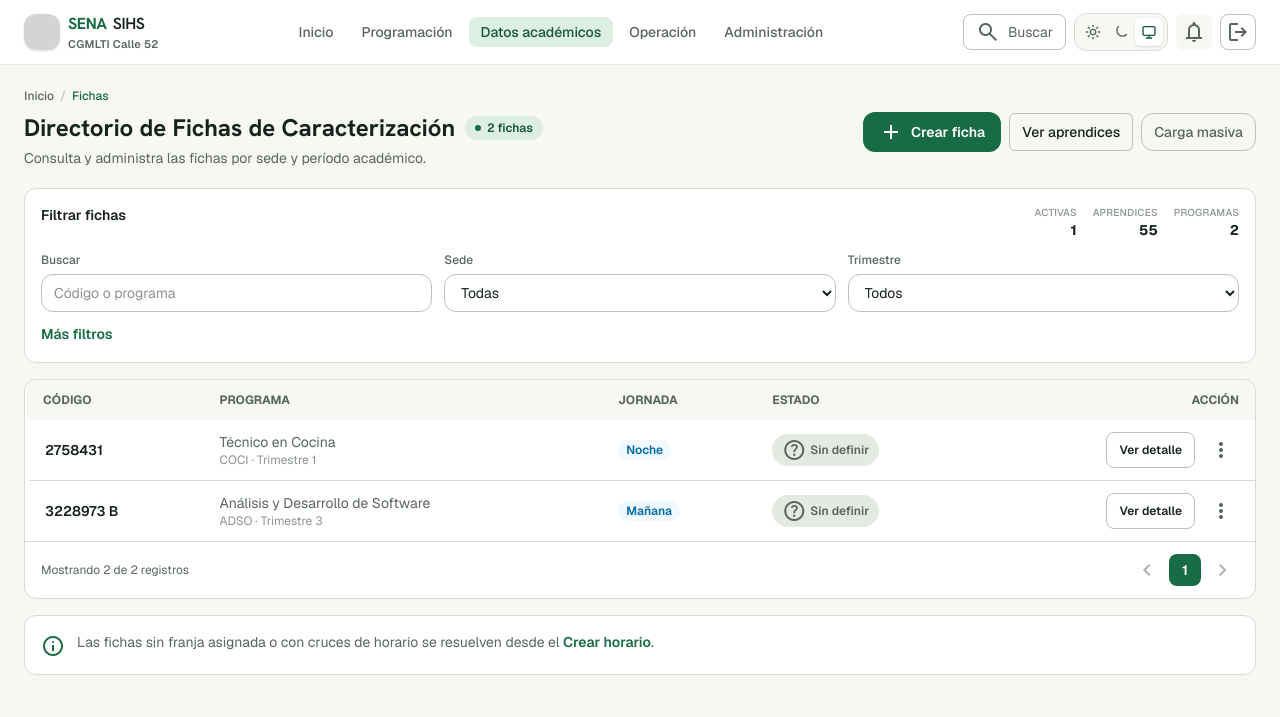
Scenario: Fichas › un bloque en borrador se distingue del publicado en el grid de consulta
Step 1. Click the text "3228973 B" → {"x": 115, "y": 511}, box x1=27 y1=480 x2=204 y2=541
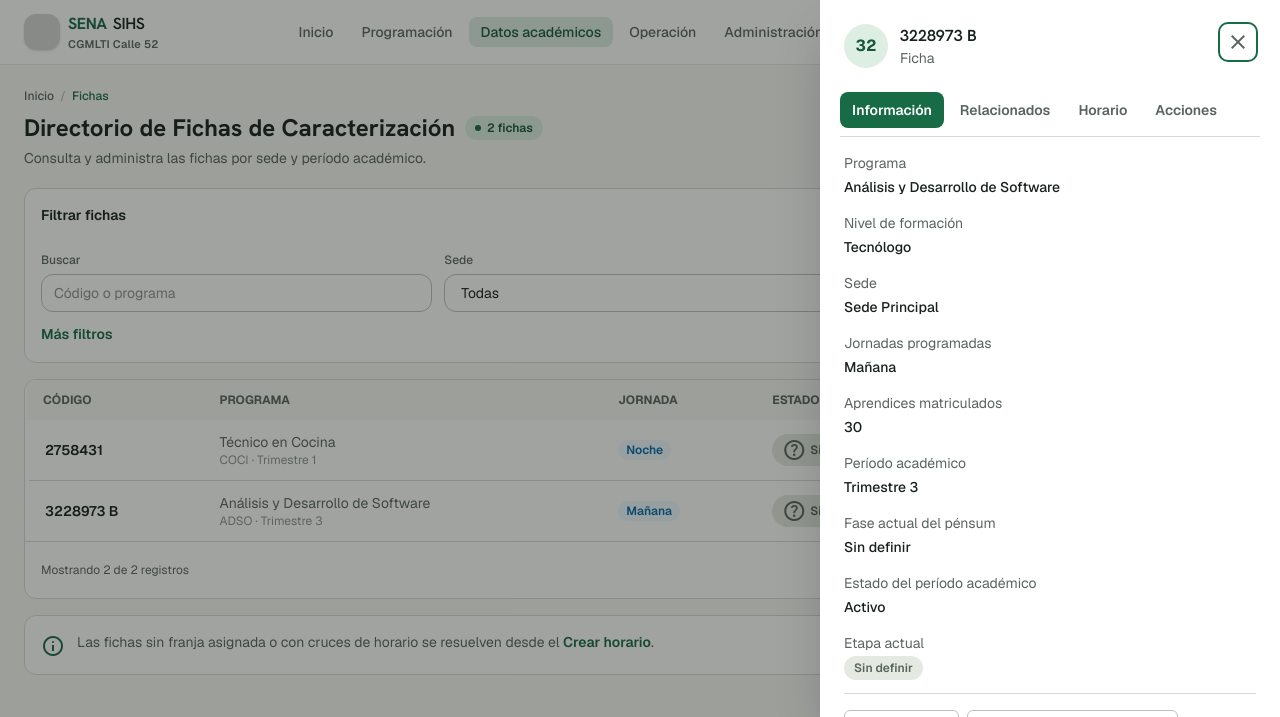
Step 2. Click the tab "Horario" → {"x": 1103, "y": 110}, box x1=1066 y1=92 x2=1139 y2=128
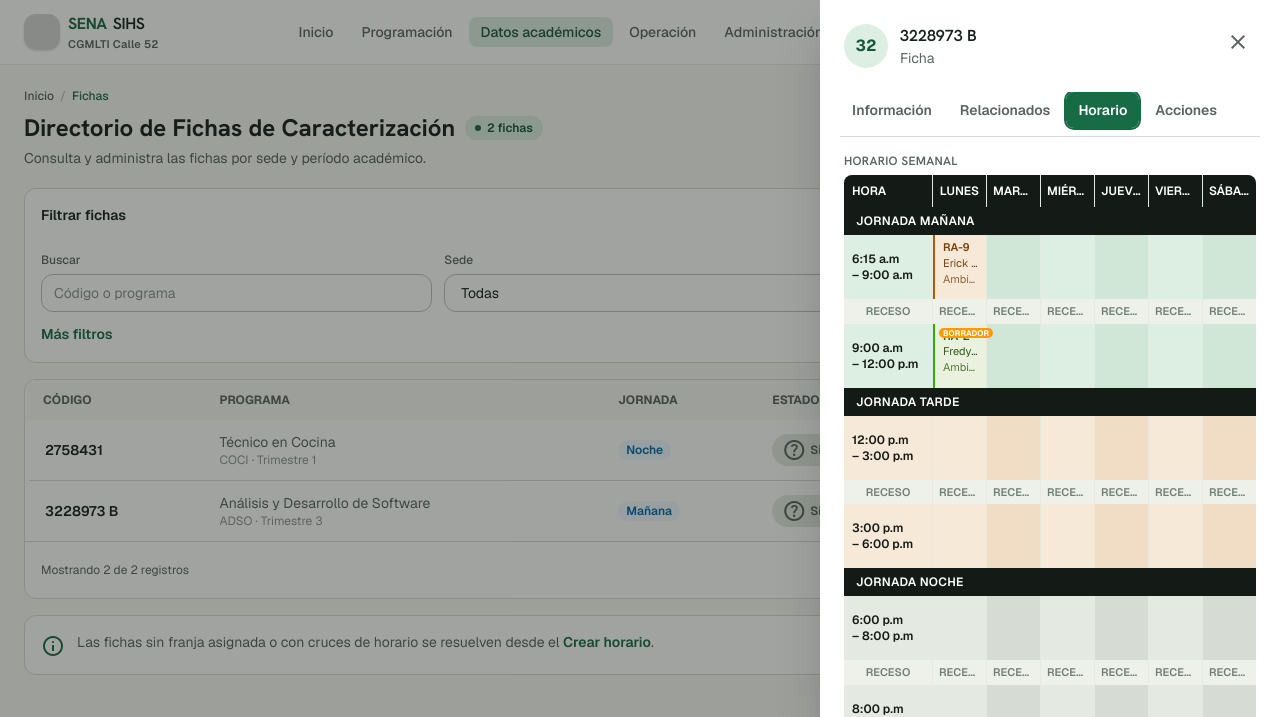
Expected: the heading "Horario semanal" is shown, x1=844 y1=153 x2=958 y2=169
Expected: the text "Borrador" is shown once, x1=939 y1=328 x2=993 y2=338
Expected: the element labelled "RA-2 Fredy Ardila Ambiente 202 Borrador" is shown, x1=933 y1=324 x2=986 y2=388
